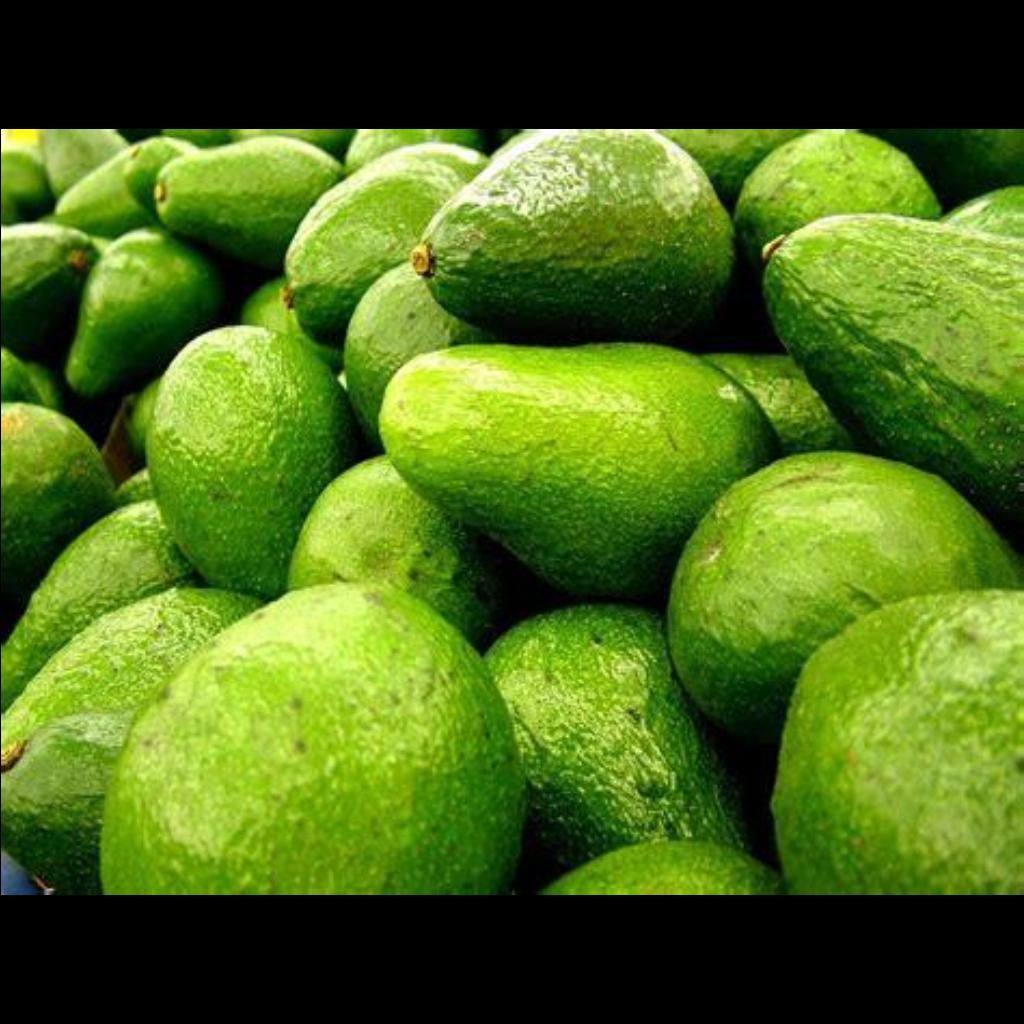fruto_sano: (581, 569, 1024, 884), (103, 580, 516, 889), (330, 340, 760, 538), (712, 162, 1023, 417), (301, 137, 694, 318), (63, 322, 314, 562)
